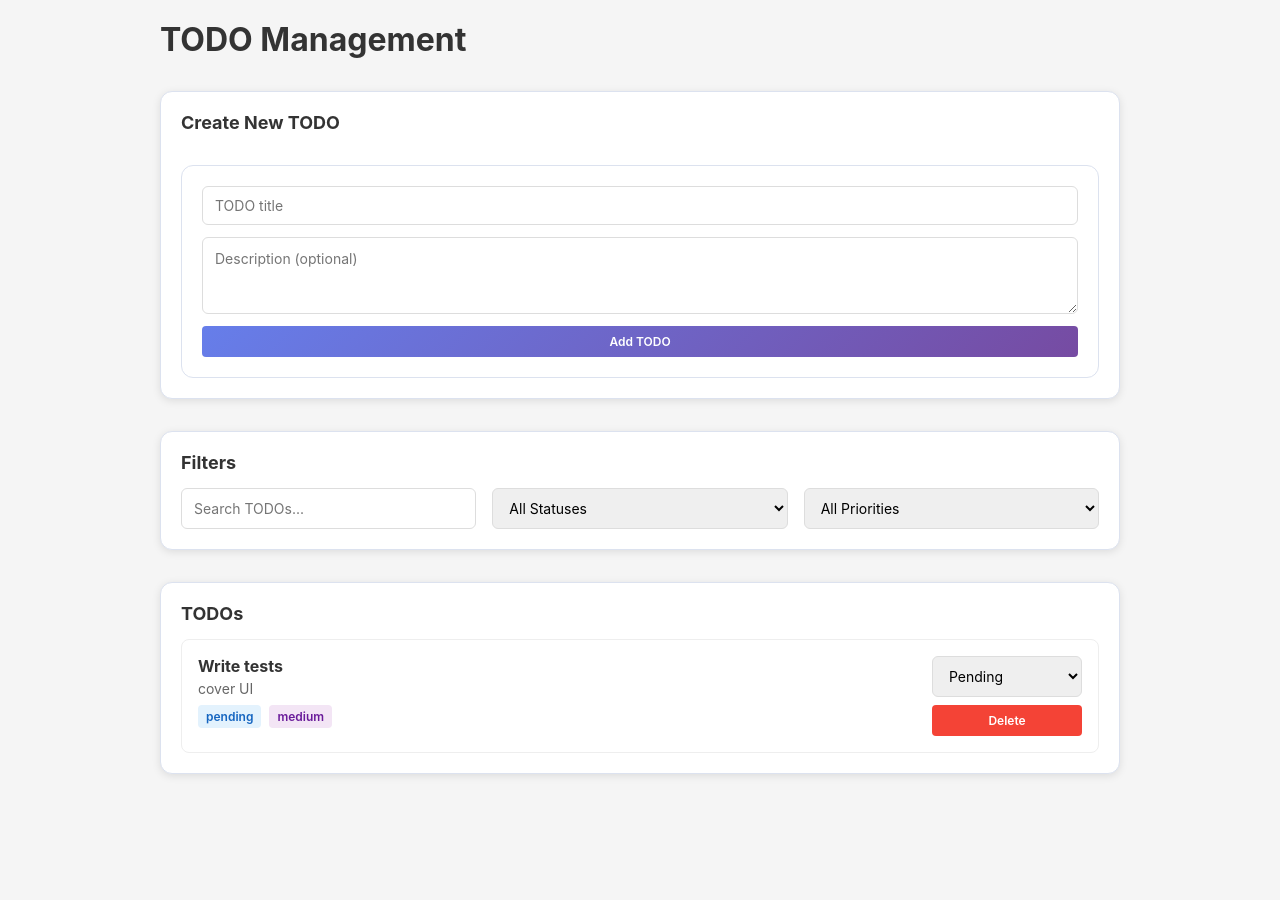
it: Todos page › creates a todo and ignores blank titles
Expected: the element with test id "todo-item-t1" is shown, [181,639,1099,753]
Click the button with test id "todo-create-button" at (640, 342), box [202,326,1078,357]
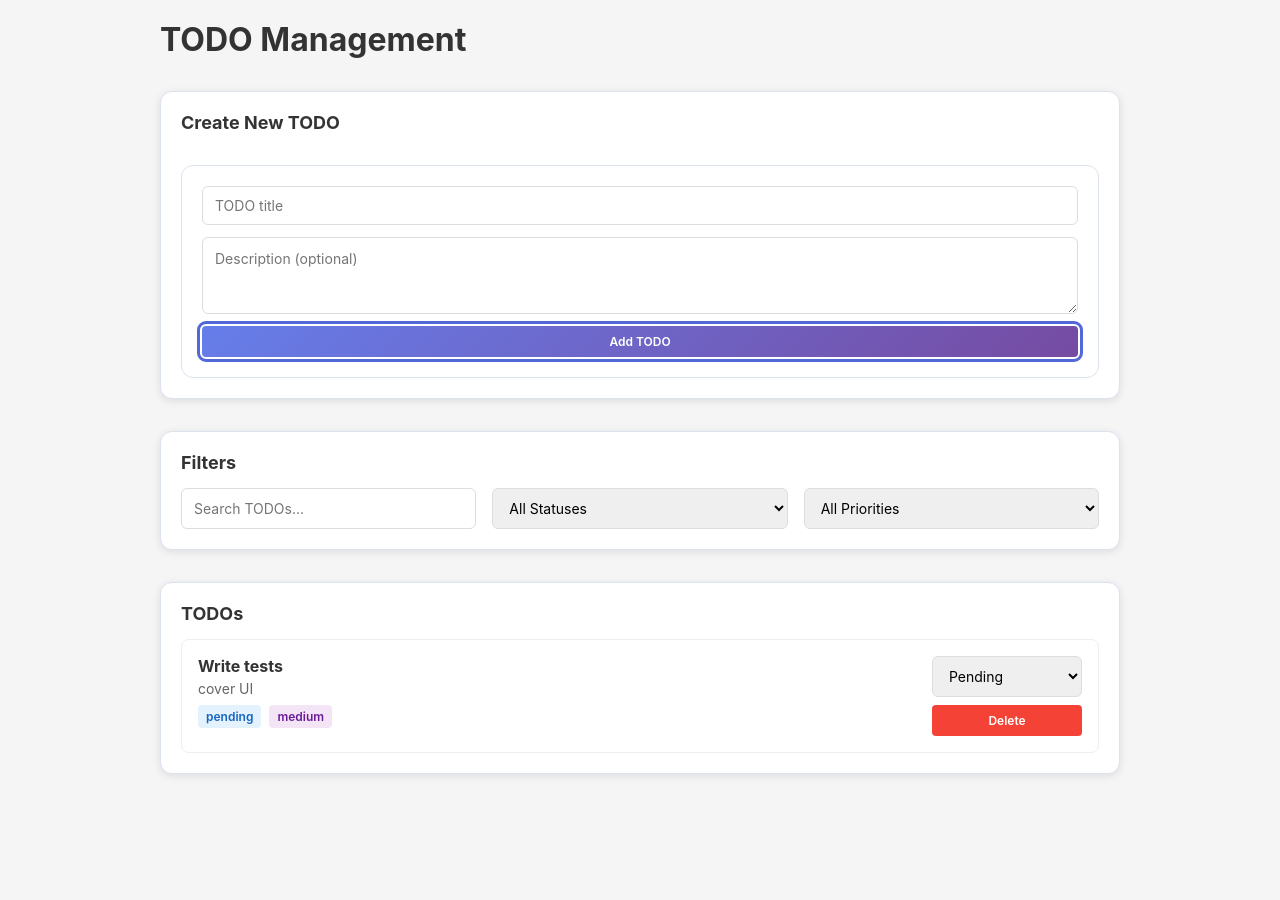
Type "New task" into the field with test id "todo-title-input" at (640, 206), box [202,186,1078,225]
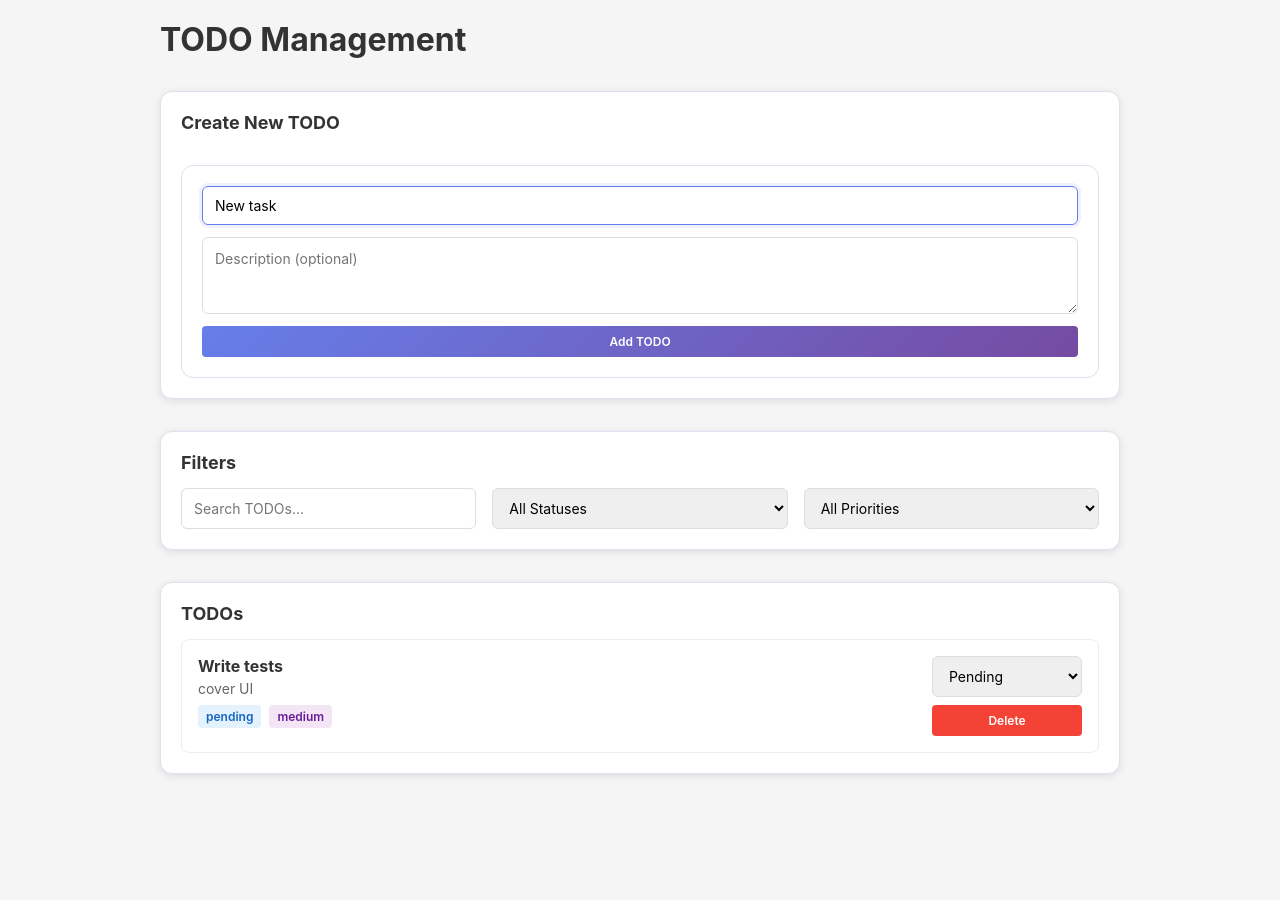
Type "details" into the text box with test id "todo-description-input" at (640, 276), box [202,237,1078,314]
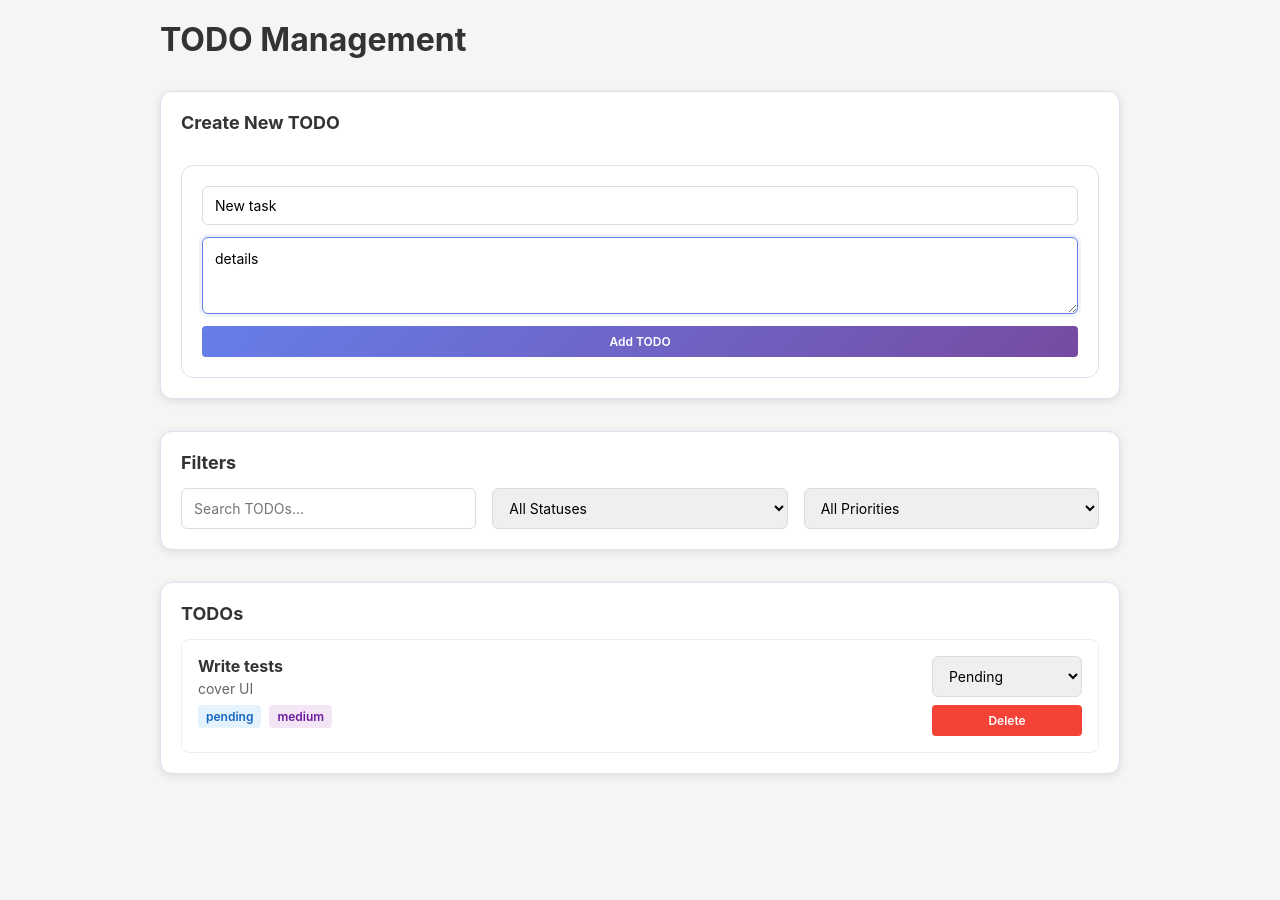
Click the button with test id "todo-create-button" at (640, 342), box [202,326,1078,357]
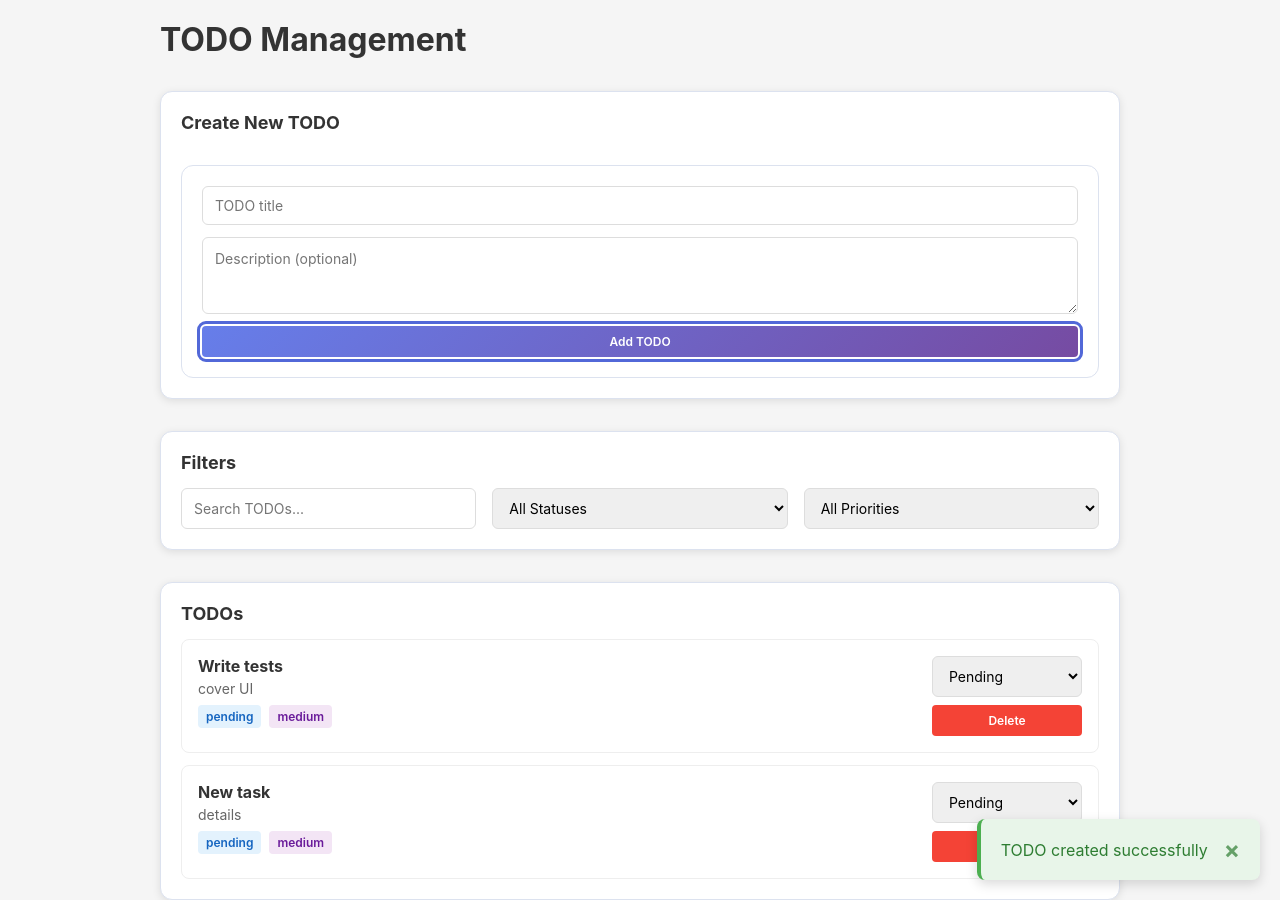
Expected: the element with test id "todo-item-t2" shows "New task", [198,782,270,802]
Expected: the message with test id "toast" shows "TODO created successfully", [1001,840,1208,860]
Expected: the field with test id "todo-title-input" is empty, [202,186,1078,225]
